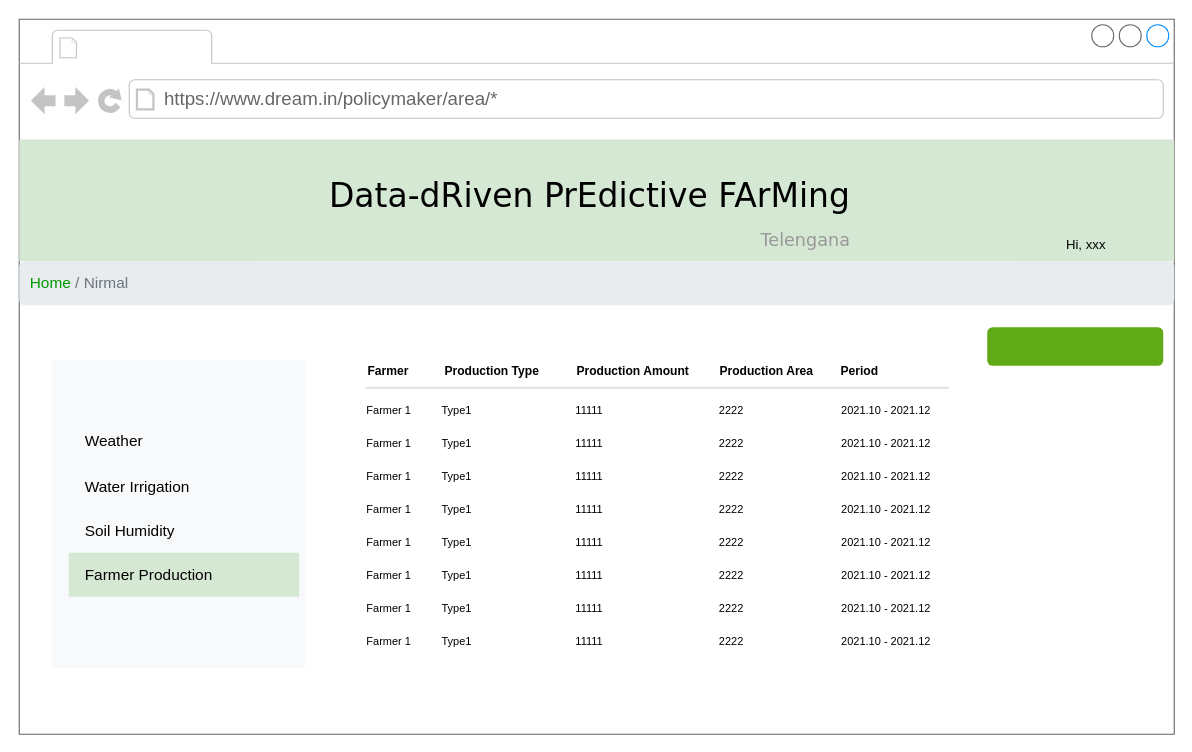
Some shapes in this 1192 by 752 pixel diagram are drawn without their labels. The shapes that lost their labels are listed below. From the top down, each one's centre as x and y in pixels, then its label:
[145,46]: Area Name
[1075,346]: Update Performance
